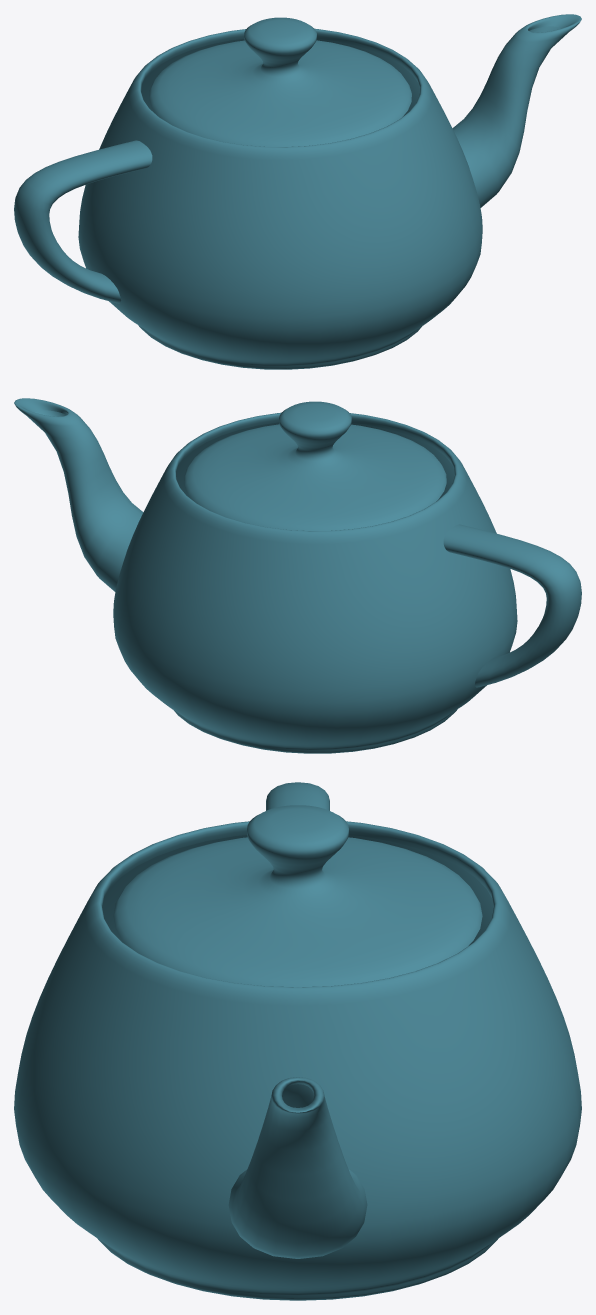
The model's file is teapot.fbx.
3 views of the same model, one above another, from view 1: azimuth 30°, elevation 25°; view 2: azimuth 150°, elevation 25°; view 3: azimuth 270°, elevation 25° (orthographic). The views are drawn at different scales.
Parts seen in each view (by area): view 1: MeshCollider; view 2: MeshCollider; view 3: MeshCollider.
Boxes of the visible parts, box(x1,y1,x2,y2) form: MeshCollider: box(14, 14, 581, 369); MeshCollider: box(14, 398, 581, 753); MeshCollider: box(14, 782, 581, 1300).
Size of the model in its own units: 193 by 94.5 by 120.
